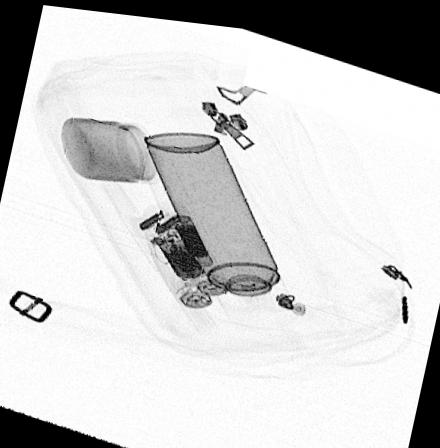Sprayer: (142, 125, 303, 319)
